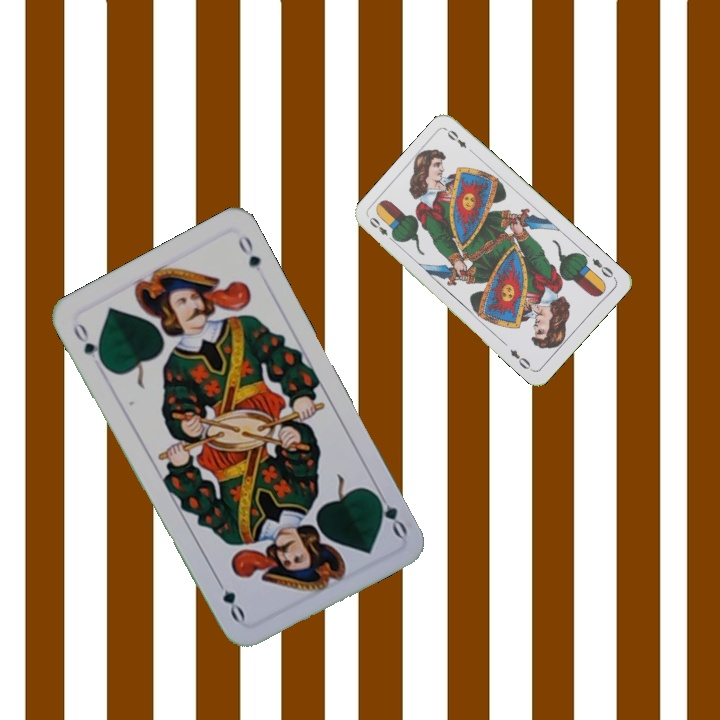EO: (365, 213, 399, 245), (588, 254, 618, 282)
GO: (368, 484, 410, 540), (69, 318, 109, 370)
